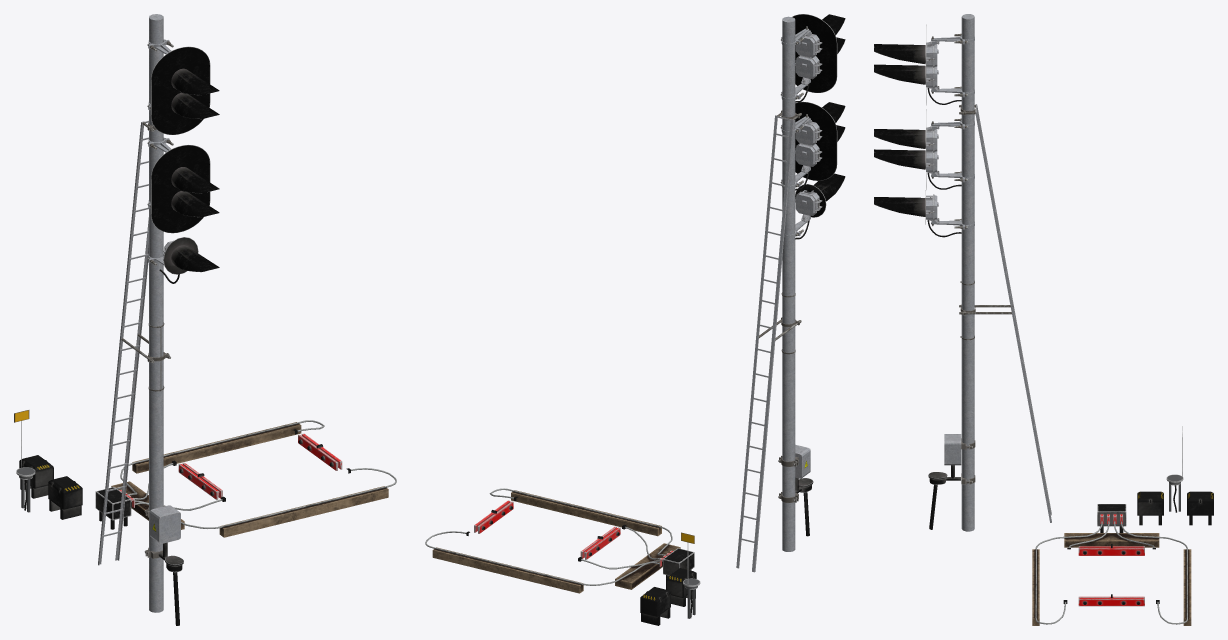
Rendered from RM_sig_P_MM2_YG+RY+W_2+2+1_DL_entr.gltf.
The picture shows the model from 3 angles, left to right: view 1: azimuth 30°, elevation 25°; view 2: azimuth 150°, elevation 25°; view 3: azimuth 270°, elevation 25°; orthographic projection. The views are drawn at different scales.
Parts seen in each view (by area): view 1: Светофор 2+2+1, Изостык; view 2: Светофор 2+2+1, Изостык; view 3: Светофор 2+2+1, Изостык.
Boxes of the visible parts, x1,y1,x2,y2 form: Светофор 2+2+1: [98, 14, 219, 625]; Изостык: [14, 410, 396, 537]; Светофор 2+2+1: [736, 14, 845, 572]; Изостык: [425, 488, 700, 625]; Светофор 2+2+1: [874, 14, 1051, 531]; Изостык: [1032, 426, 1213, 625].
Bounding box in the file's own units: 4.2 × 7.57 × 4.55.
Materials: 3 (2 with a texture image).
